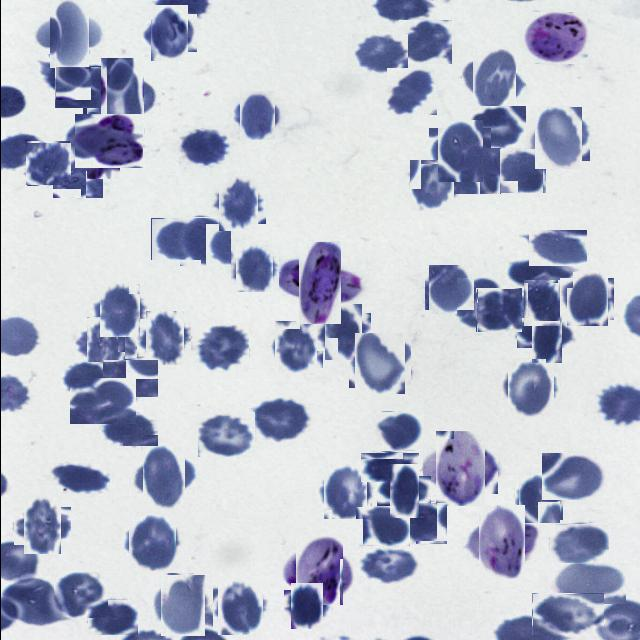difficult: (74, 114, 142, 168), (524, 12, 587, 64)
gametocyte: (287, 251, 350, 314)
red blood cell: (90, 67, 152, 128), (530, 110, 586, 166), (352, 335, 408, 391), (549, 563, 625, 604), (541, 454, 605, 502), (69, 378, 135, 424), (531, 593, 603, 635), (75, 114, 130, 168), (466, 54, 520, 108), (41, 7, 95, 61), (155, 577, 209, 631), (432, 124, 486, 178), (137, 450, 190, 504), (504, 361, 556, 414), (125, 517, 177, 569), (196, 412, 254, 458), (54, 66, 117, 108), (251, 398, 309, 443), (54, 570, 108, 618), (80, 322, 131, 372), (195, 324, 248, 372), (548, 522, 608, 564), (465, 106, 525, 148), (214, 582, 264, 632), (179, 217, 230, 266), (359, 546, 418, 586), (386, 68, 436, 115), (398, 20, 451, 64), (150, 218, 205, 260), (562, 275, 610, 323), (214, 180, 262, 228), (407, 161, 455, 209), (320, 468, 368, 516), (272, 323, 320, 371), (18, 502, 66, 550), (318, 308, 366, 356), (144, 9, 192, 56), (95, 287, 143, 334), (351, 34, 407, 74), (496, 148, 545, 193), (456, 278, 499, 329), (140, 316, 187, 362), (453, 148, 500, 194), (426, 266, 472, 312), (44, 462, 110, 494), (102, 359, 157, 397), (528, 230, 586, 266), (371, 411, 423, 451), (51, 158, 102, 198), (99, 412, 157, 447), (516, 476, 560, 522), (524, 310, 568, 356), (476, 288, 522, 332), (398, 502, 446, 544), (177, 128, 229, 166), (62, 362, 116, 398), (26, 142, 70, 186), (362, 506, 409, 546), (232, 248, 276, 290), (506, 260, 572, 288), (86, 599, 137, 635), (359, 452, 418, 482), (520, 282, 562, 324), (382, 470, 424, 512), (235, 95, 278, 136), (286, 586, 326, 626)
ring: (428, 438, 491, 500), (471, 512, 531, 573)
trophozoite: (289, 540, 348, 599)
